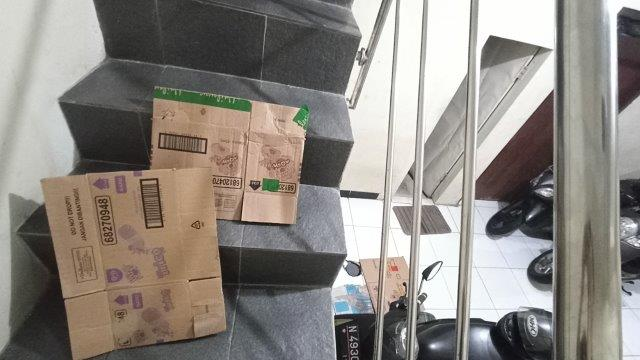kardus: (43, 169, 225, 360), (150, 88, 304, 222), (360, 258, 408, 314)
